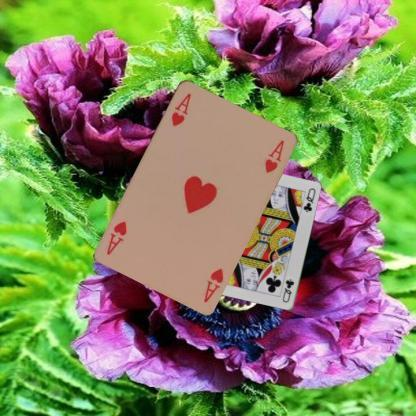Ah: (201, 265, 226, 304), (168, 90, 192, 127)
Qc: (280, 277, 295, 304)
